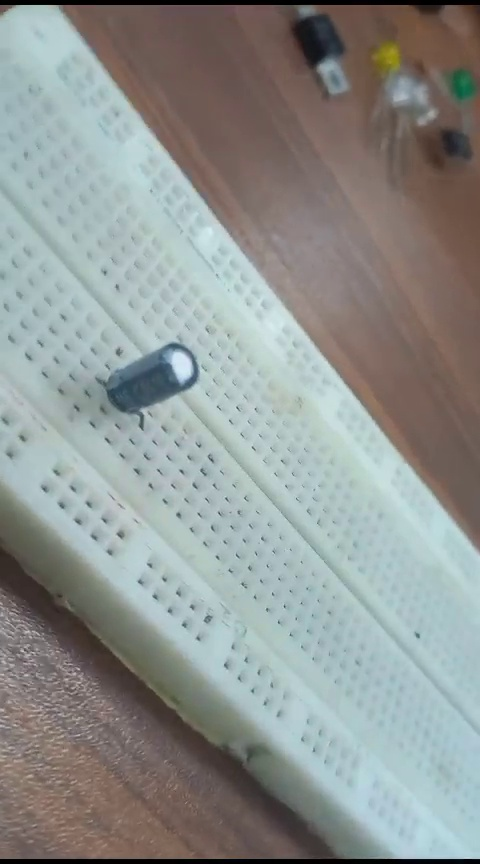capacitor: (92, 333, 204, 419)
